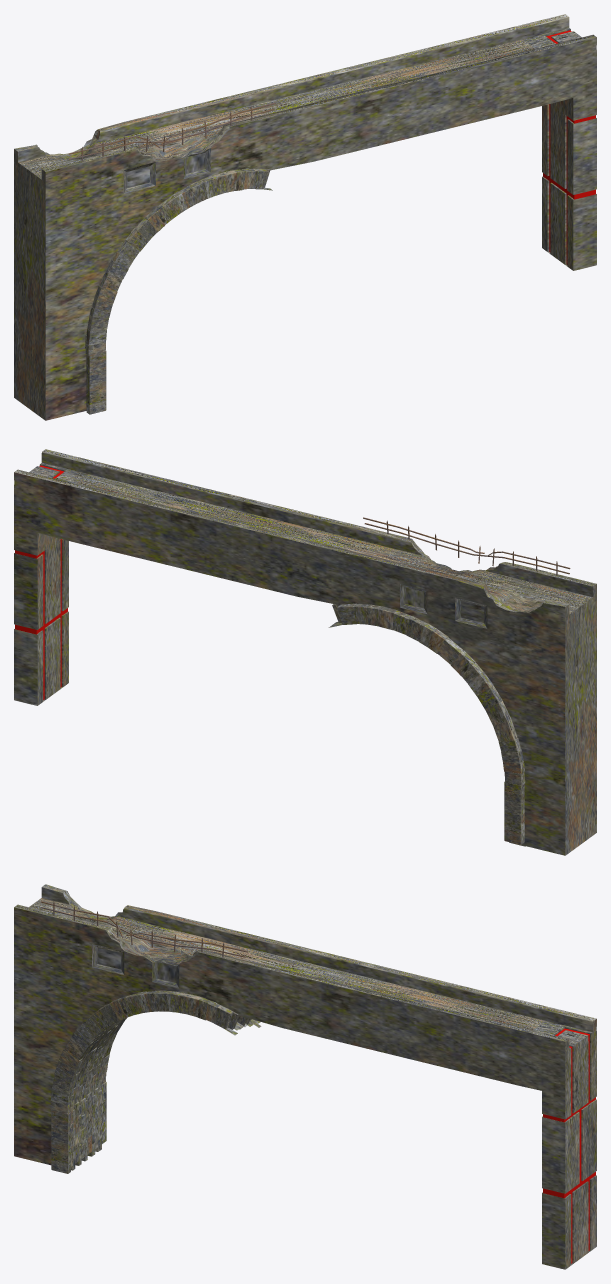
The model's file is newbridge.fbx.
The picture shows the model from 3 angles, top to bottom: view 1: azimuth 30°, elevation 25°; view 2: azimuth 150°, elevation 25°; view 3: azimuth 330°, elevation 25°; orthographic projection.
Parts seen in each view (by area): view 1: Cube.002, Wall.002; view 2: Cube.002, Wall.002; view 3: Cube.002, Wall.002.
Boxes of the visible parts, x1=… form: Cube.002: x1=14, y1=14, x2=596, y2=420; Wall.002: x1=85, y1=168, x2=272, y2=414; Cube.002: x1=14, y1=449, x2=596, y2=855; Wall.002: x1=328, y1=603, x2=525, y2=846; Cube.002: x1=14, y1=884, x2=596, y2=1269; Wall.002: x1=50, y1=990, x2=261, y2=1173.
Bounding box in the file's own units: 7002 × 3218 × 849.
